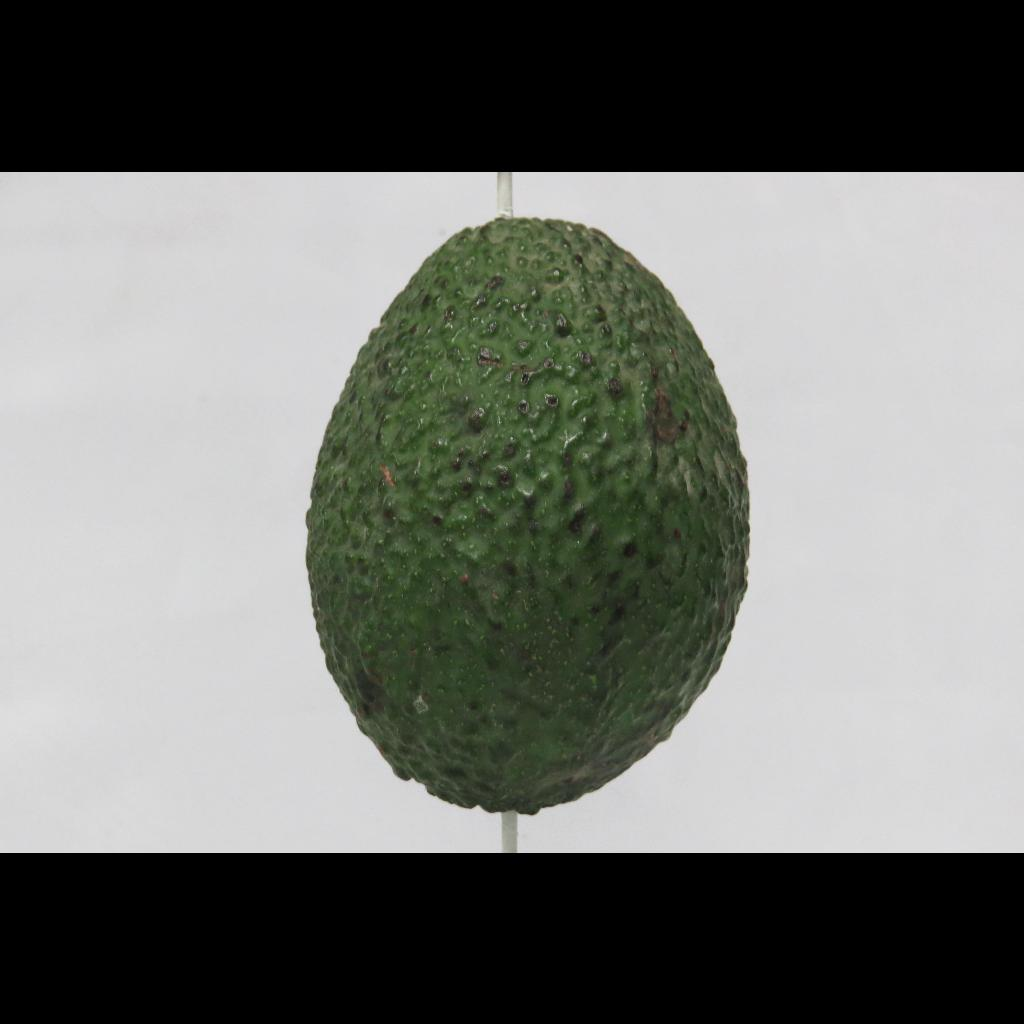Healthy: (255, 201, 785, 829)
